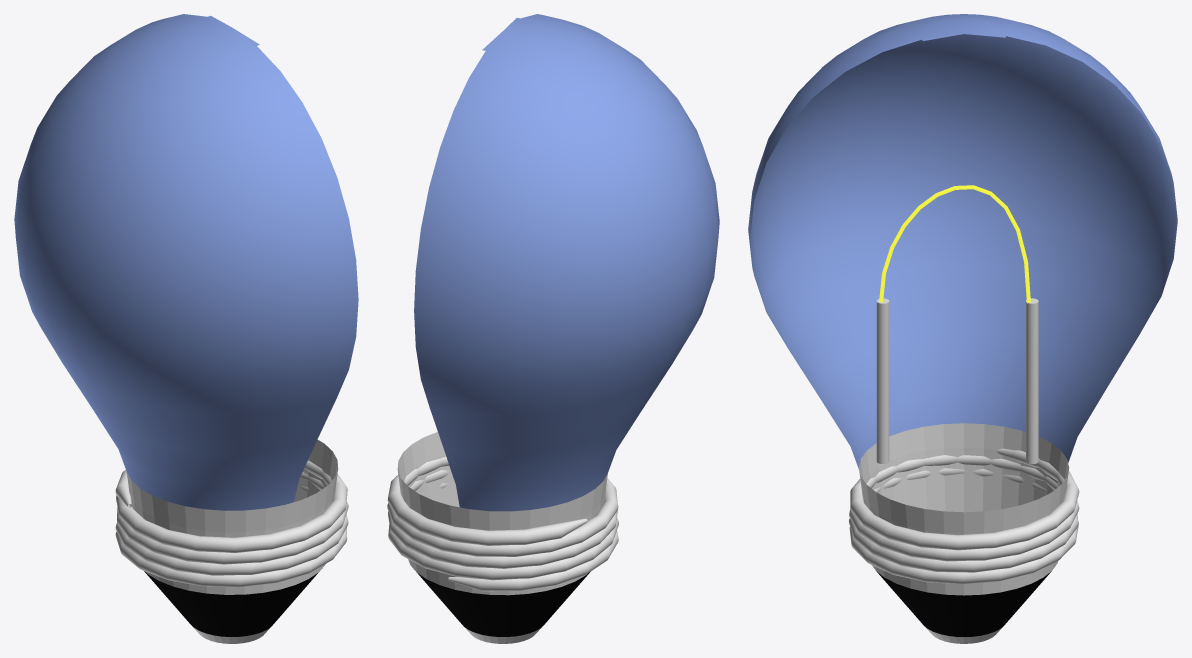
Rendered from bulb2(1).gltf.
The picture shows the model from 3 angles, left to right: view 1: azimuth 30°, elevation 25°; view 2: azimuth 150°, elevation 25°; view 3: azimuth 270°, elevation 25°; orthographic projection.
Parts seen in each view (by area): view 1: bulbMain, screw, bulbMetal, bulbEnd; view 2: bulbMain, screw, bulbMetal, bulbEnd; view 3: bulbMain, bulbMetal, screw, bulbEnd, Cylinder.001, Cylinder, light.
Boxes of the visible parts, x1=… form: bulbMain: x1=14, y1=14, x2=358, y2=510; screw: x1=115, y1=460, x2=348, y2=587; bulbMetal: x1=126, y1=439, x2=338, y2=643; bulbEnd: x1=144, y1=568, x2=322, y2=636; bulbMain: x1=414, y1=14, x2=719, y2=511; screw: x1=387, y1=456, x2=618, y2=591; bulbMetal: x1=397, y1=432, x2=607, y2=643; bulbEnd: x1=416, y1=571, x2=590, y2=636; bulbMain: x1=748, y1=14, x2=1177, y2=470; bulbMetal: x1=859, y1=423, x2=1069, y2=643; screw: x1=848, y1=448, x2=1079, y2=584; bulbEnd: x1=876, y1=571, x2=1051, y2=636; Cylinder.001: x1=876, y1=298, x2=889, y2=463; Cylinder: x1=1026, y1=298, x2=1038, y2=463; light: x1=879, y1=185, x2=1030, y2=303.
Bounding box in the file's own units: 1.53 × 3.04 × 1.99.
